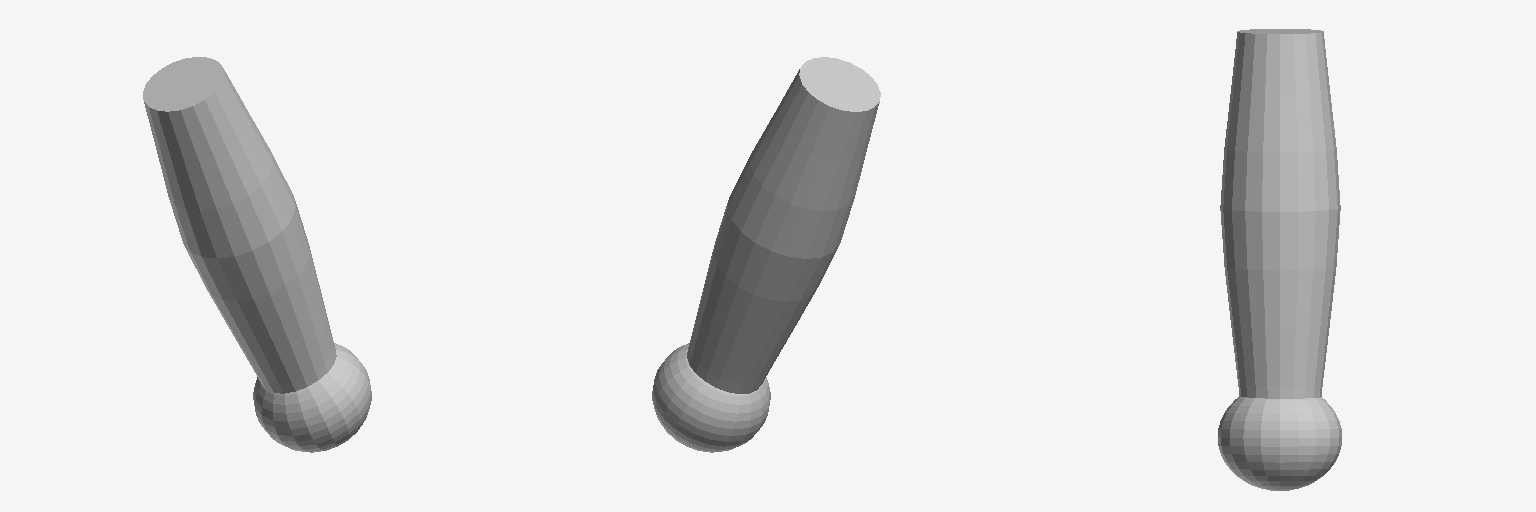
Rendered from handL.obj.
3 views of the same model, side by side, from view 1: azimuth 30°, elevation 25°; view 2: azimuth 150°, elevation 25°; view 3: azimuth 270°, elevation 25° (orthographic).
Visible parts, largest first — view 1: handL:pCylinder6; view 2: handL:pCylinder6; view 3: handL:pCylinder6.
Part boxes in pixels (left/top/right/bottom): handL:pCylinder6: left=143, top=57, right=371, bottom=452; handL:pCylinder6: left=652, top=57, right=880, bottom=452; handL:pCylinder6: left=1218, top=29, right=1341, bottom=490.
Size of the model in its own units: 2.79 by 5.06 by 1.41.